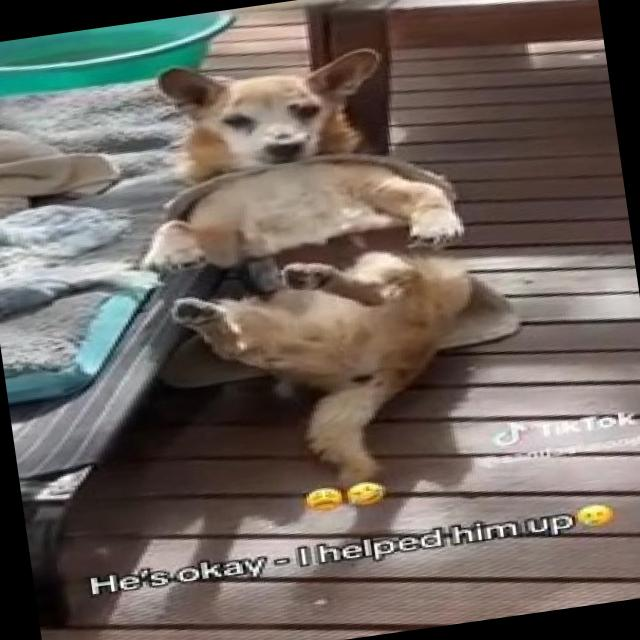dog: (126, 16, 542, 478)
